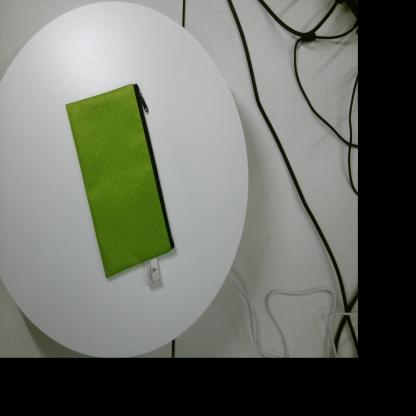Stationery: (65, 83, 174, 286)
